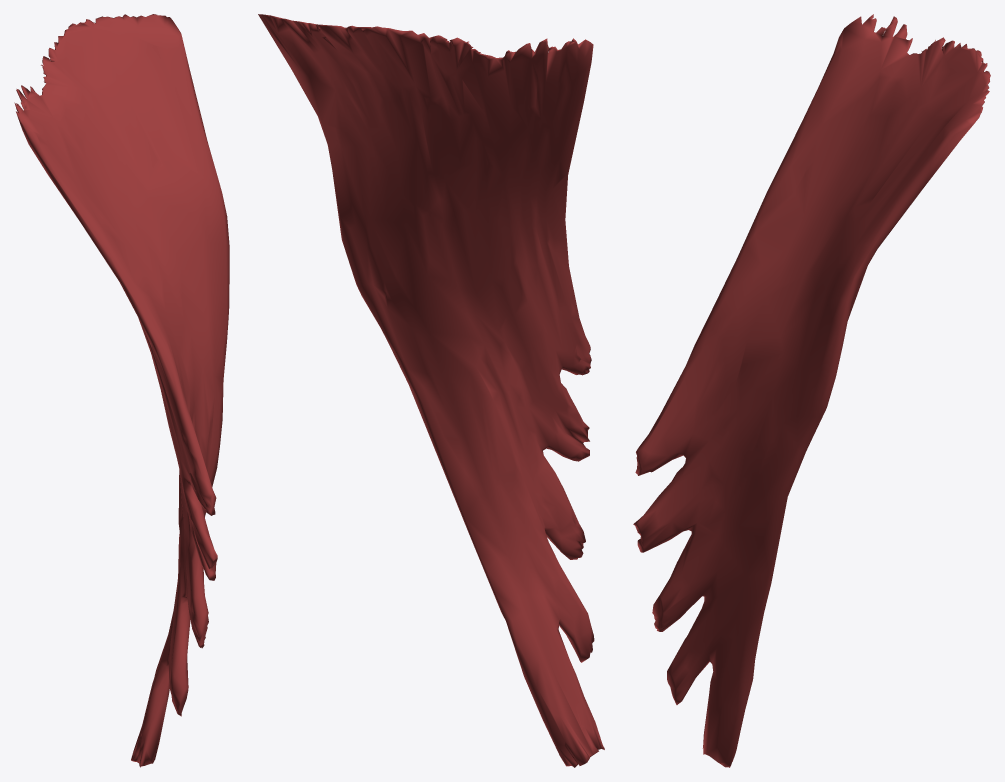
File: spinalis-capitis-muscle-r.glb
The picture shows the model from 3 angles, left to right: view 1: azimuth 30°, elevation 25°; view 2: azimuth 150°, elevation 25°; view 3: azimuth 270°, elevation 25°; orthographic projection. The views are drawn at different scales.
Parts seen in each view (by area): view 1: Spinalis capitis muscle.r; view 2: Spinalis capitis muscle.r; view 3: Spinalis capitis muscle.r.
Part boxes in pixels (box(x1,y1,x2,y2)): Spinalis capitis muscle.r: box(14, 14, 229, 767); Spinalis capitis muscle.r: box(258, 14, 604, 767); Spinalis capitis muscle.r: box(633, 14, 990, 767).
Bounding box in the file's own units: 0.0415 × 0.1241 × 0.0546.
